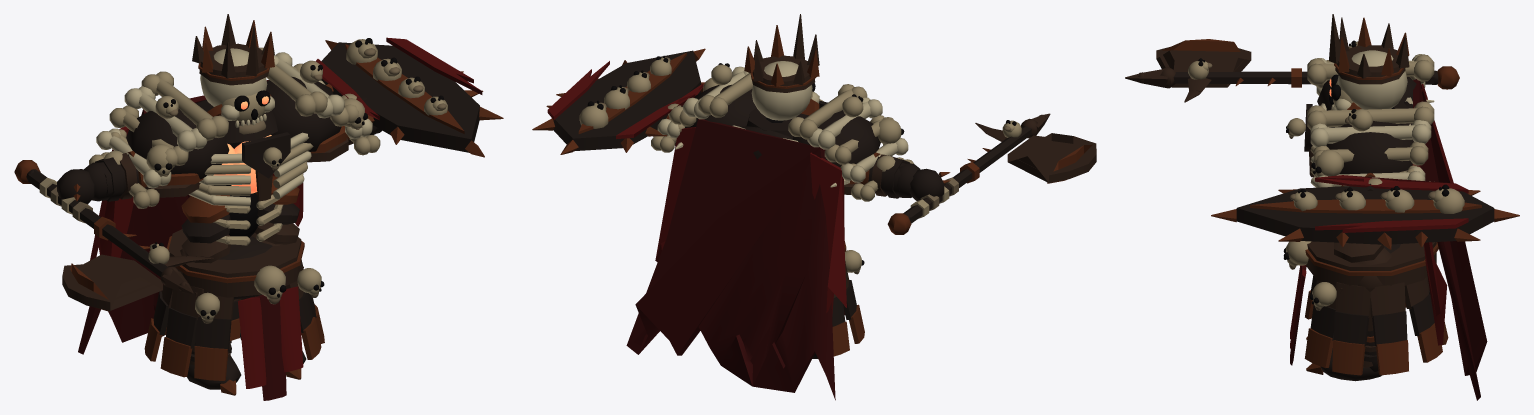
File: boss_bonelord-12F-Baqz.glb
3 renders of one model, left to right at view 1: azimuth 30°, elevation 25°; view 2: azimuth 150°, elevation 25°; view 3: azimuth 270°, elevation 25°, orthographic. The views are drawn at different scales.
Parts seen in each view (by area): view 1: hips__Belt, handslotl__Shield, chest__Pauldron_r, handslotr__Axe, chest__Pauldron_l, chest__Cape, spine__Belly, hips__Loincloth, chest__Ribcage, head__Crown, head__Skull, chest__Sternum (+5 smaller); view 2: chest__Cape, handslotl__Shield, chest__Pauldron_r, handslotr__Axe, chest__Pauldron_l, head__Crown, head__Skull, hips__Belt, handslotl__Shield_Cloth, lowerarmr__Vambrace, chest__Sternum, handr__Gauntlet; view 3: hips__Belt, handslotl__Shield, chest__Pauldron_l, chest__Cape, handslotr__Axe, head__Crown, handslotl__Shield_Cloth, head__Skull, chest__Pauldron_r, chest__Sternum, spine__Belly, hips__Loincloth (+3 smaller).
Boxes of the visible parts, left/top/right/bottom form: hips__Belt: left=144, top=229, right=324, bottom=380; handslotl__Shield: left=321, top=38, right=503, bottom=157; chest__Pauldron_r: left=89, top=71, right=229, bottom=208; handslotr__Axe: left=14, top=160, right=213, bottom=311; chest__Pauldron_l: left=259, top=47, right=380, bottom=162; chest__Cape: left=78, top=80, right=303, bottom=354; spine__Belly: left=181, top=175, right=299, bottom=263; hips__Loincloth: left=237, top=286, right=303, bottom=400; chest__Ribcage: left=189, top=132, right=313, bottom=206; head__Crown: left=192, top=14, right=274, bottom=85; head__Skull: left=200, top=48, right=274, bottom=134; chest__Sternum: left=195, top=94, right=290, bottom=201; chest__Cape: left=626, top=119, right=846, bottom=400; handslotl__Shield: left=532, top=48, right=705, bottom=154; chest__Pauldron_r: left=788, top=84, right=913, bottom=201; handslotr__Axe: left=887, top=113, right=1096, bottom=234; chest__Pauldron_l: left=651, top=63, right=756, bottom=152; head__Crown: left=744, top=14, right=819, bottom=92; head__Skull: left=751, top=61, right=819, bottom=120; hips__Belt: left=832, top=241, right=864, bottom=356; handslotl__Shield_Cloth: left=547, top=61, right=703, bottom=139; lowerarmr__Vambrace: left=830, top=152, right=920, bottom=198; chest__Sternum: left=740, top=99, right=827, bottom=159; handr__Gauntlet: left=909, top=168, right=950, bottom=200; hips__Belt: left=1283, top=241, right=1448, bottom=375; handslotl__Shield: left=1211, top=184, right=1519, bottom=249; chest__Pauldron_l: left=1307, top=101, right=1434, bottom=187; chest__Cape: left=1412, top=79, right=1487, bottom=400; handslotr__Axe: left=1125, top=39, right=1459, bottom=102; head__Crown: left=1329, top=14, right=1409, bottom=84; handslotl__Shield_Cloth: left=1315, top=175, right=1468, bottom=232; head__Skull: left=1329, top=50, right=1407, bottom=110; chest__Pauldron_r: left=1307, top=40, right=1434, bottom=110; chest__Sternum: left=1286, top=99, right=1412, bottom=177; spine__Belly: left=1334, top=242, right=1383, bottom=262; hips__Loincloth: left=1290, top=265, right=1306, bottom=365.
Size of the model in its own units: 2.58 by 1.8 by 1.85.
